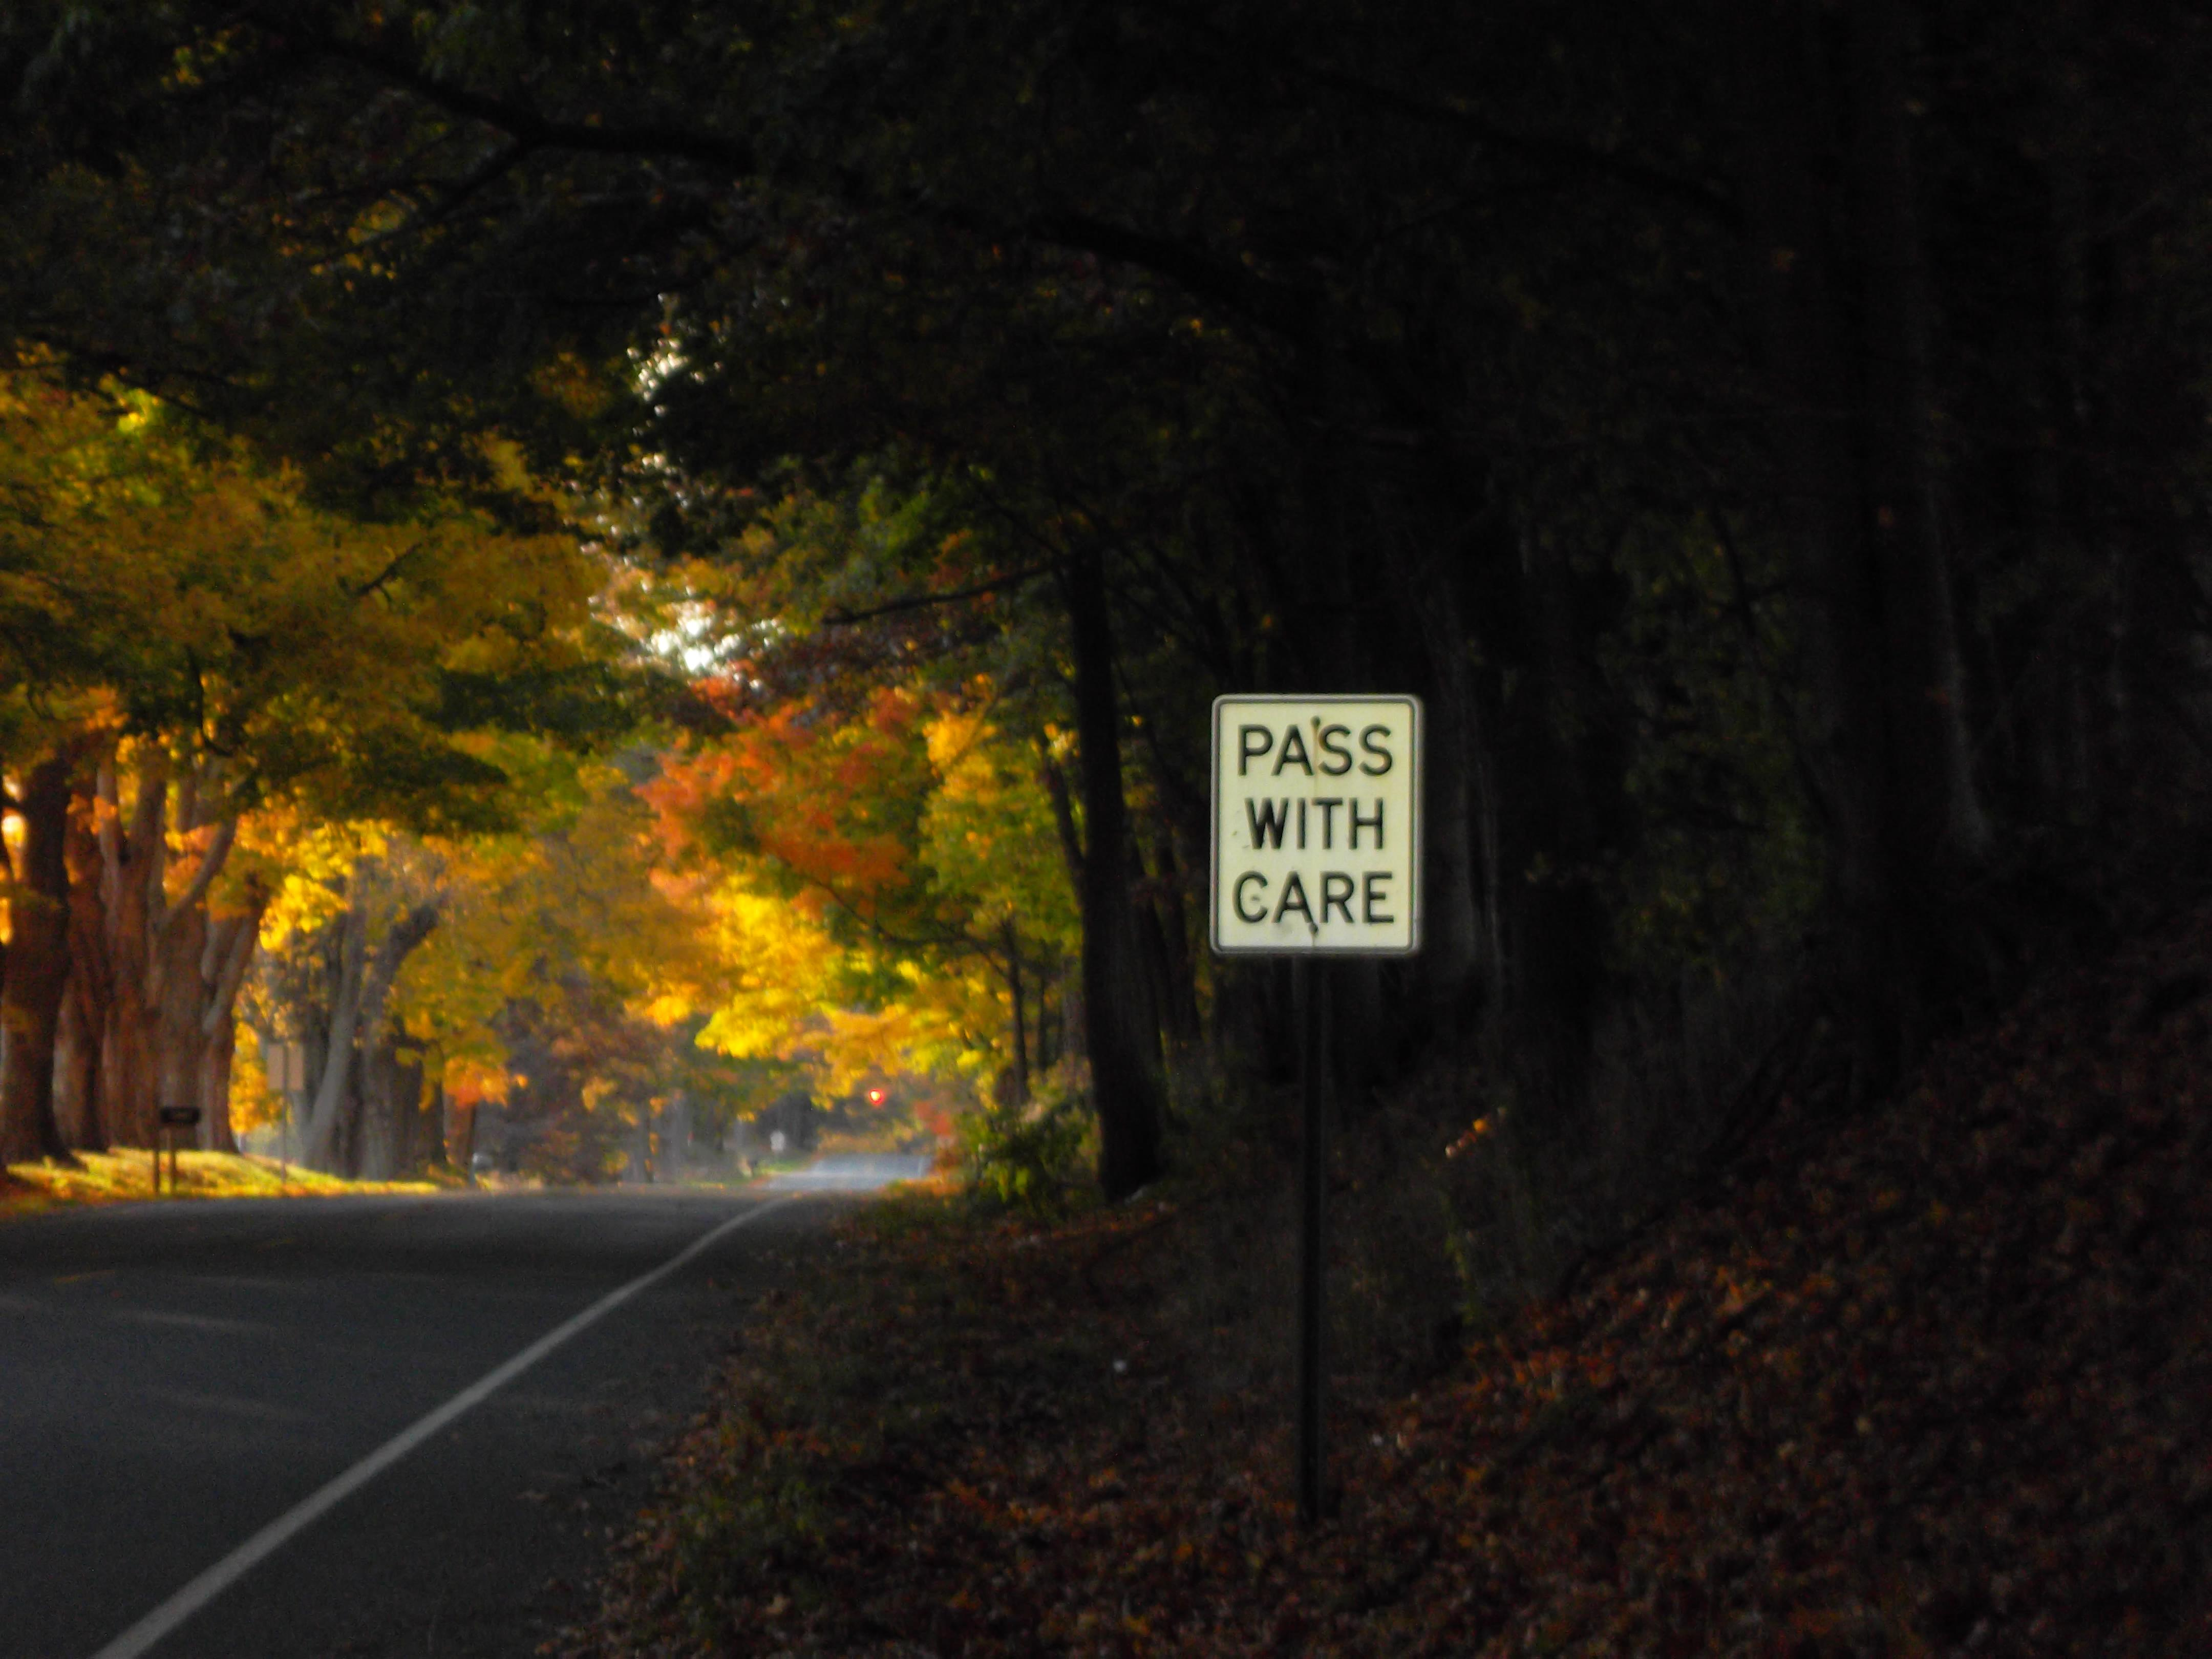regulatory: (1204, 685, 1426, 969)
